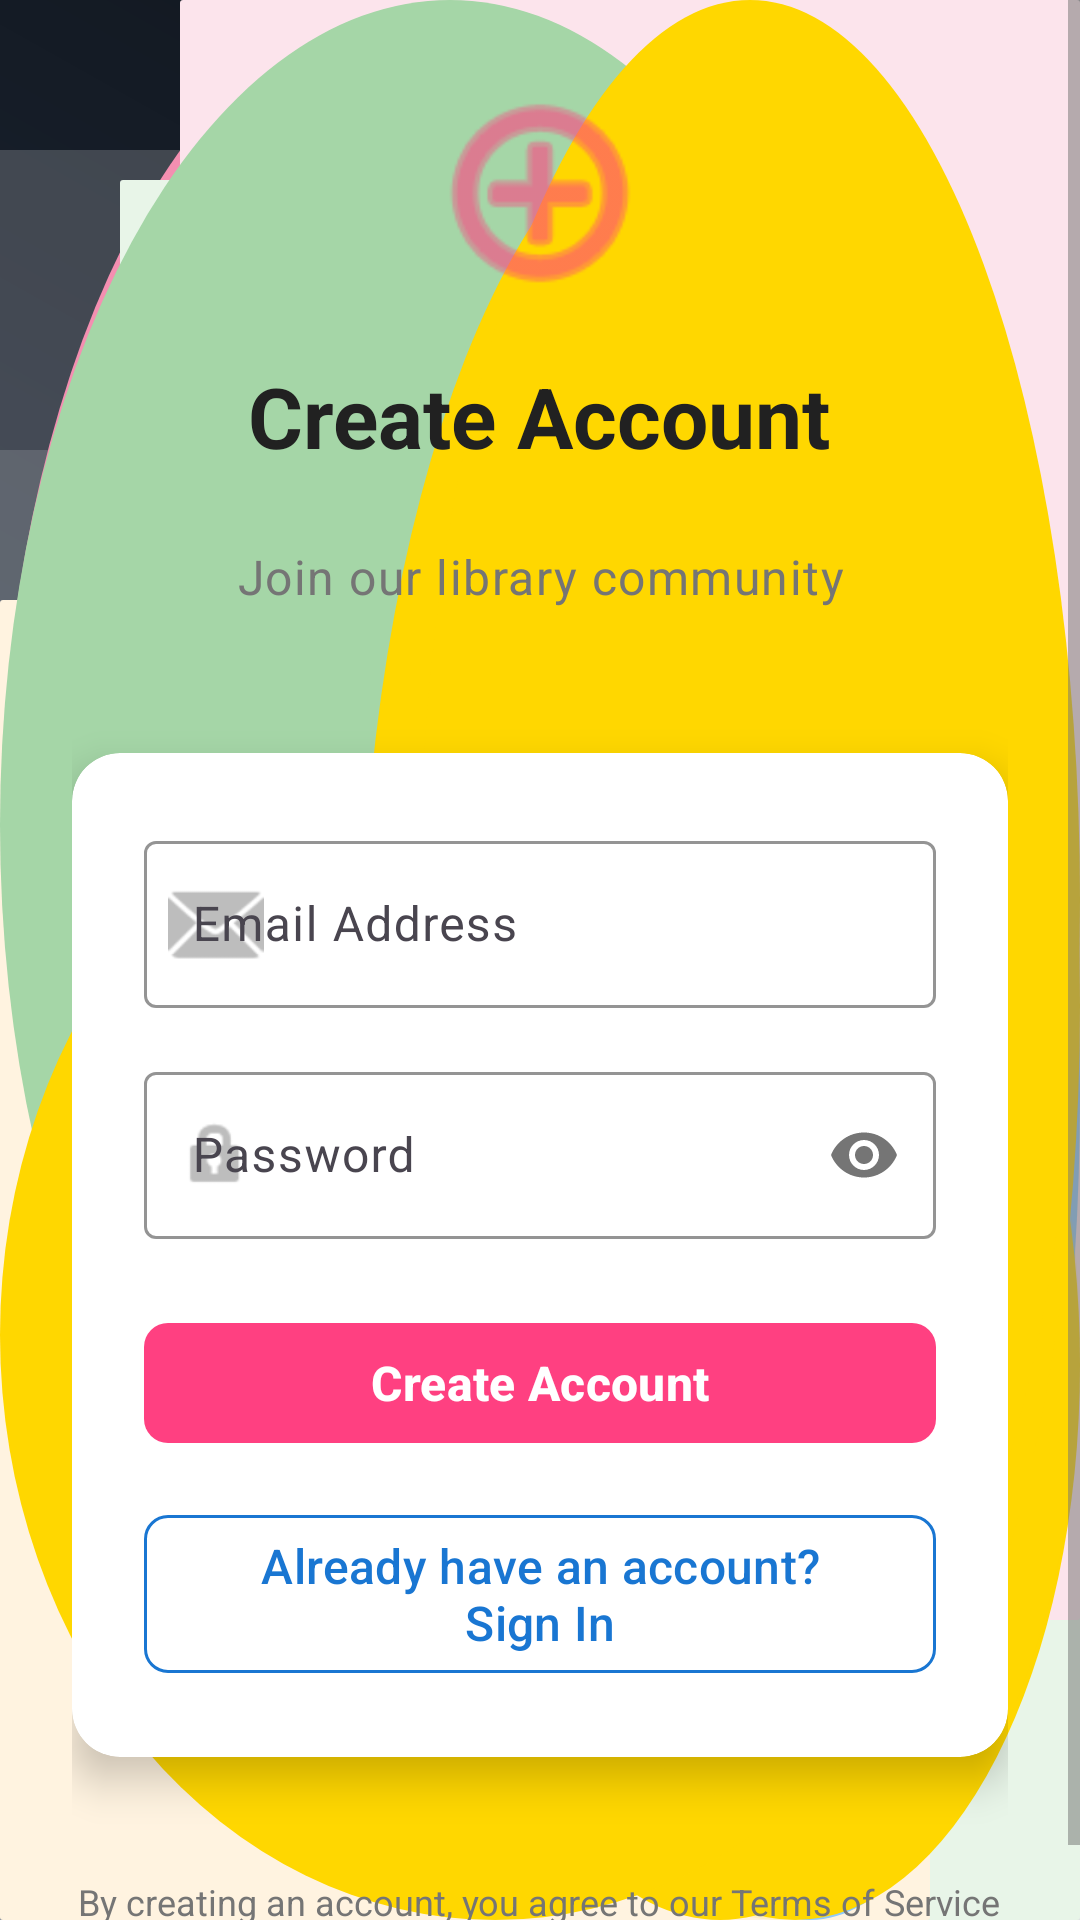

Icon click points for this 1080x1920 phone screenshot, format (x,y):
add: (540,192)
